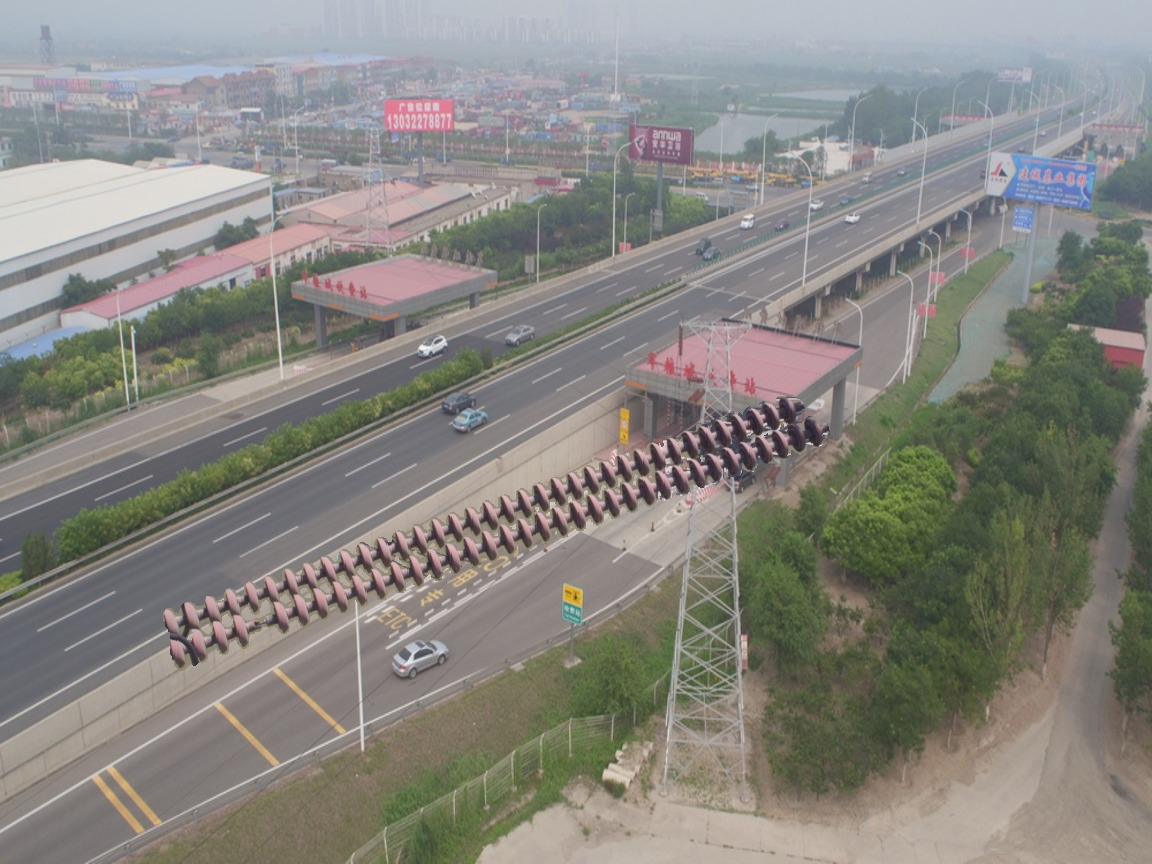defect: (229, 599, 292, 647)
